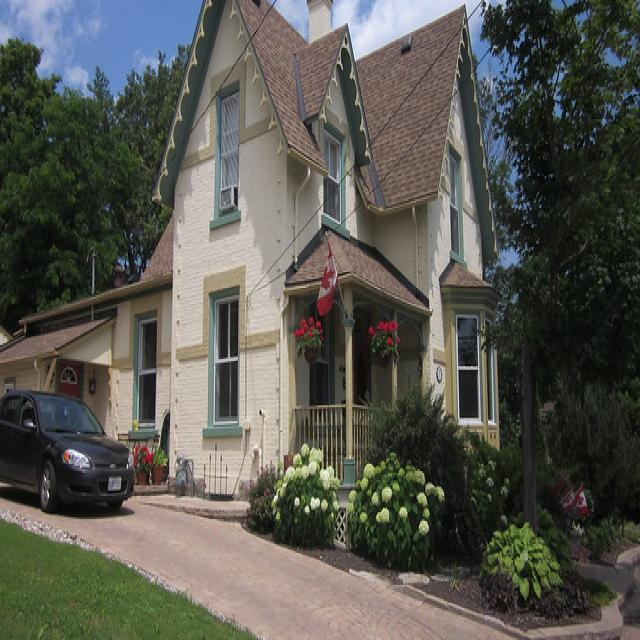building: (124, 2, 515, 524)
